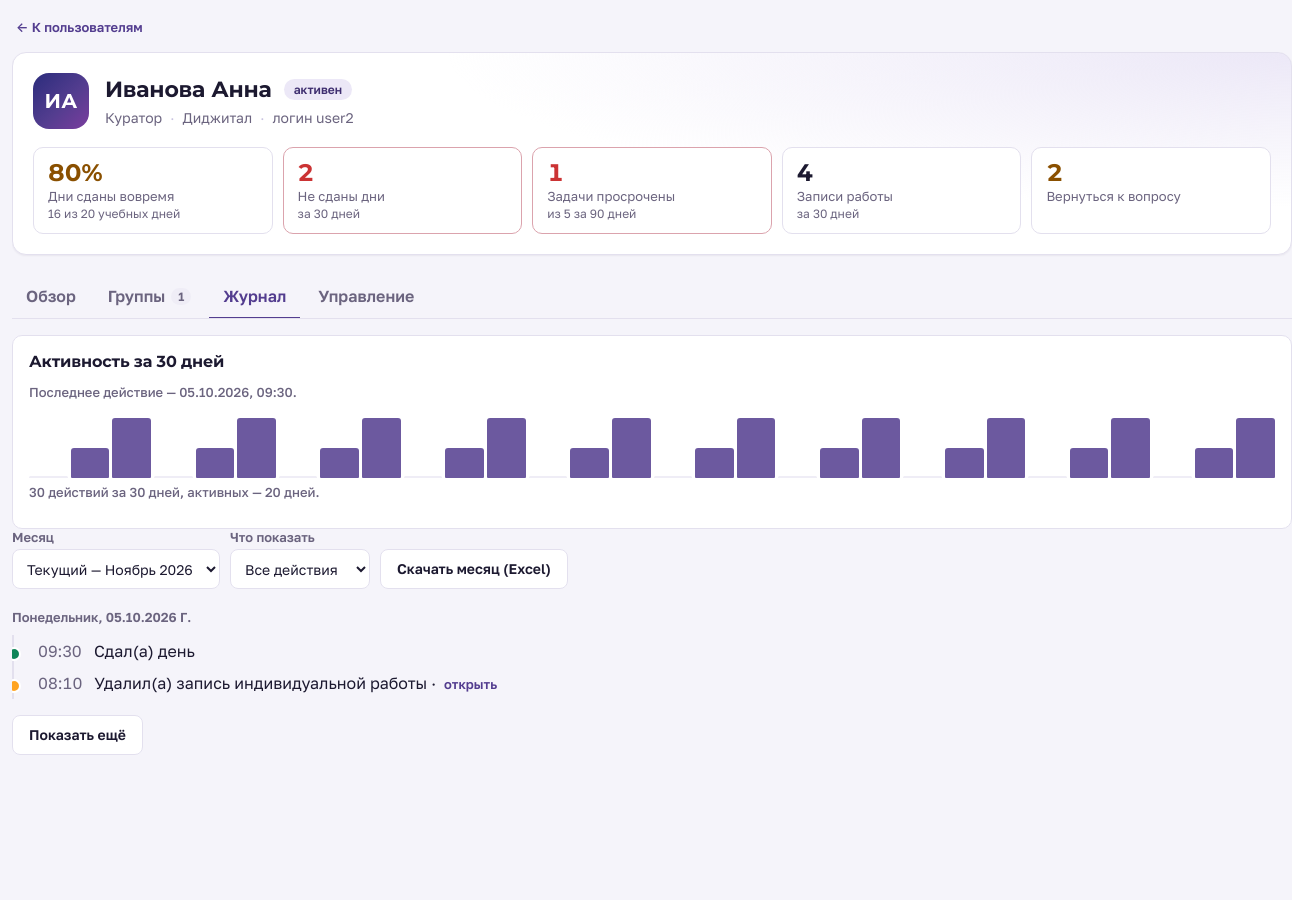
Test: UserProfilePage — действия › лента по дням со временем и подписями; «Показать ещё» догружает старые
Expected: the text "Сдал(а) день" is shown, [94,641,195,661]
Click the button "Показать ещё" at (78, 735), box [12,715,143,755]
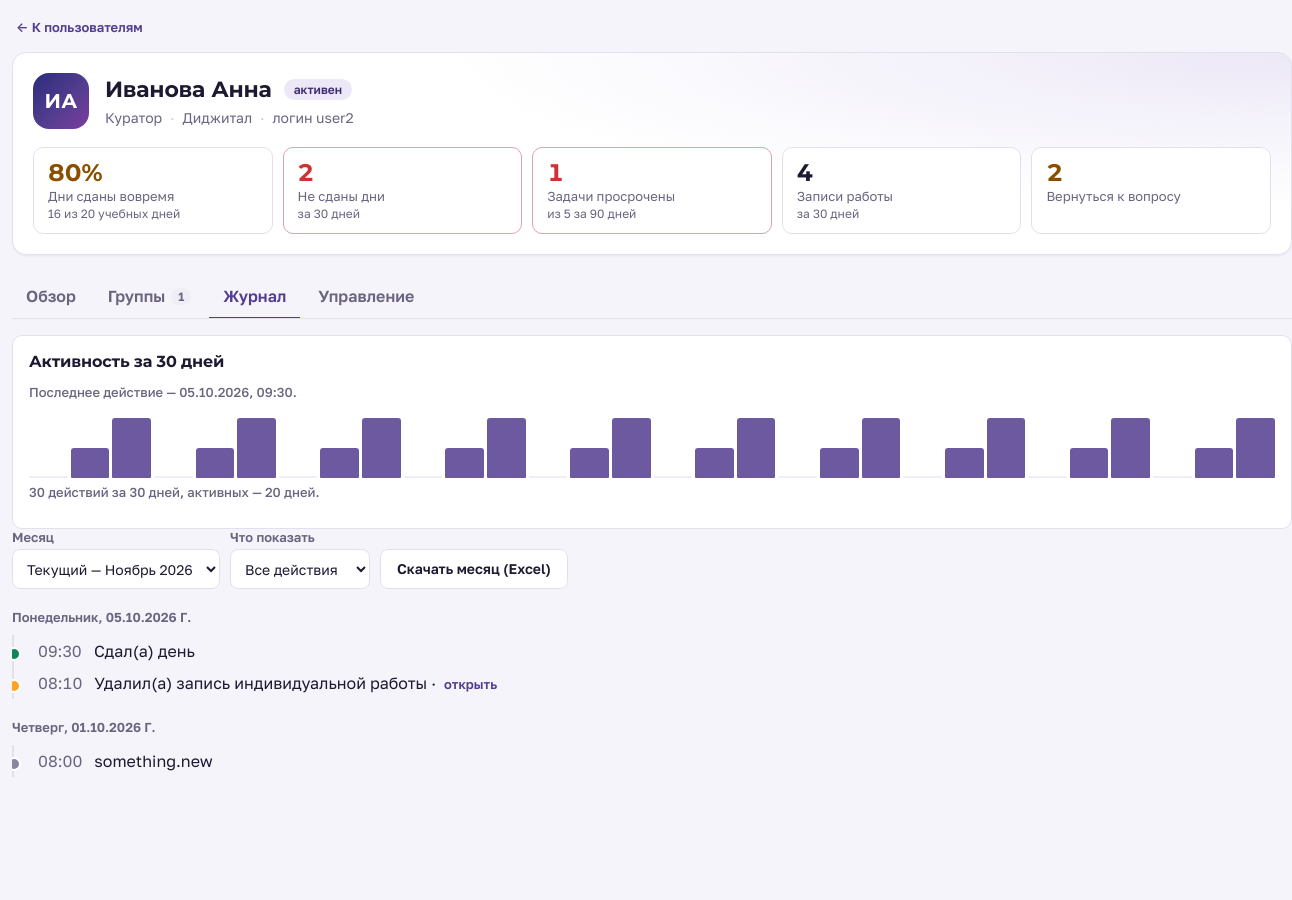
Expected: the text "something.new" is shown, [94,751,213,771]
Expected: the button "Показать ещё" is gone
